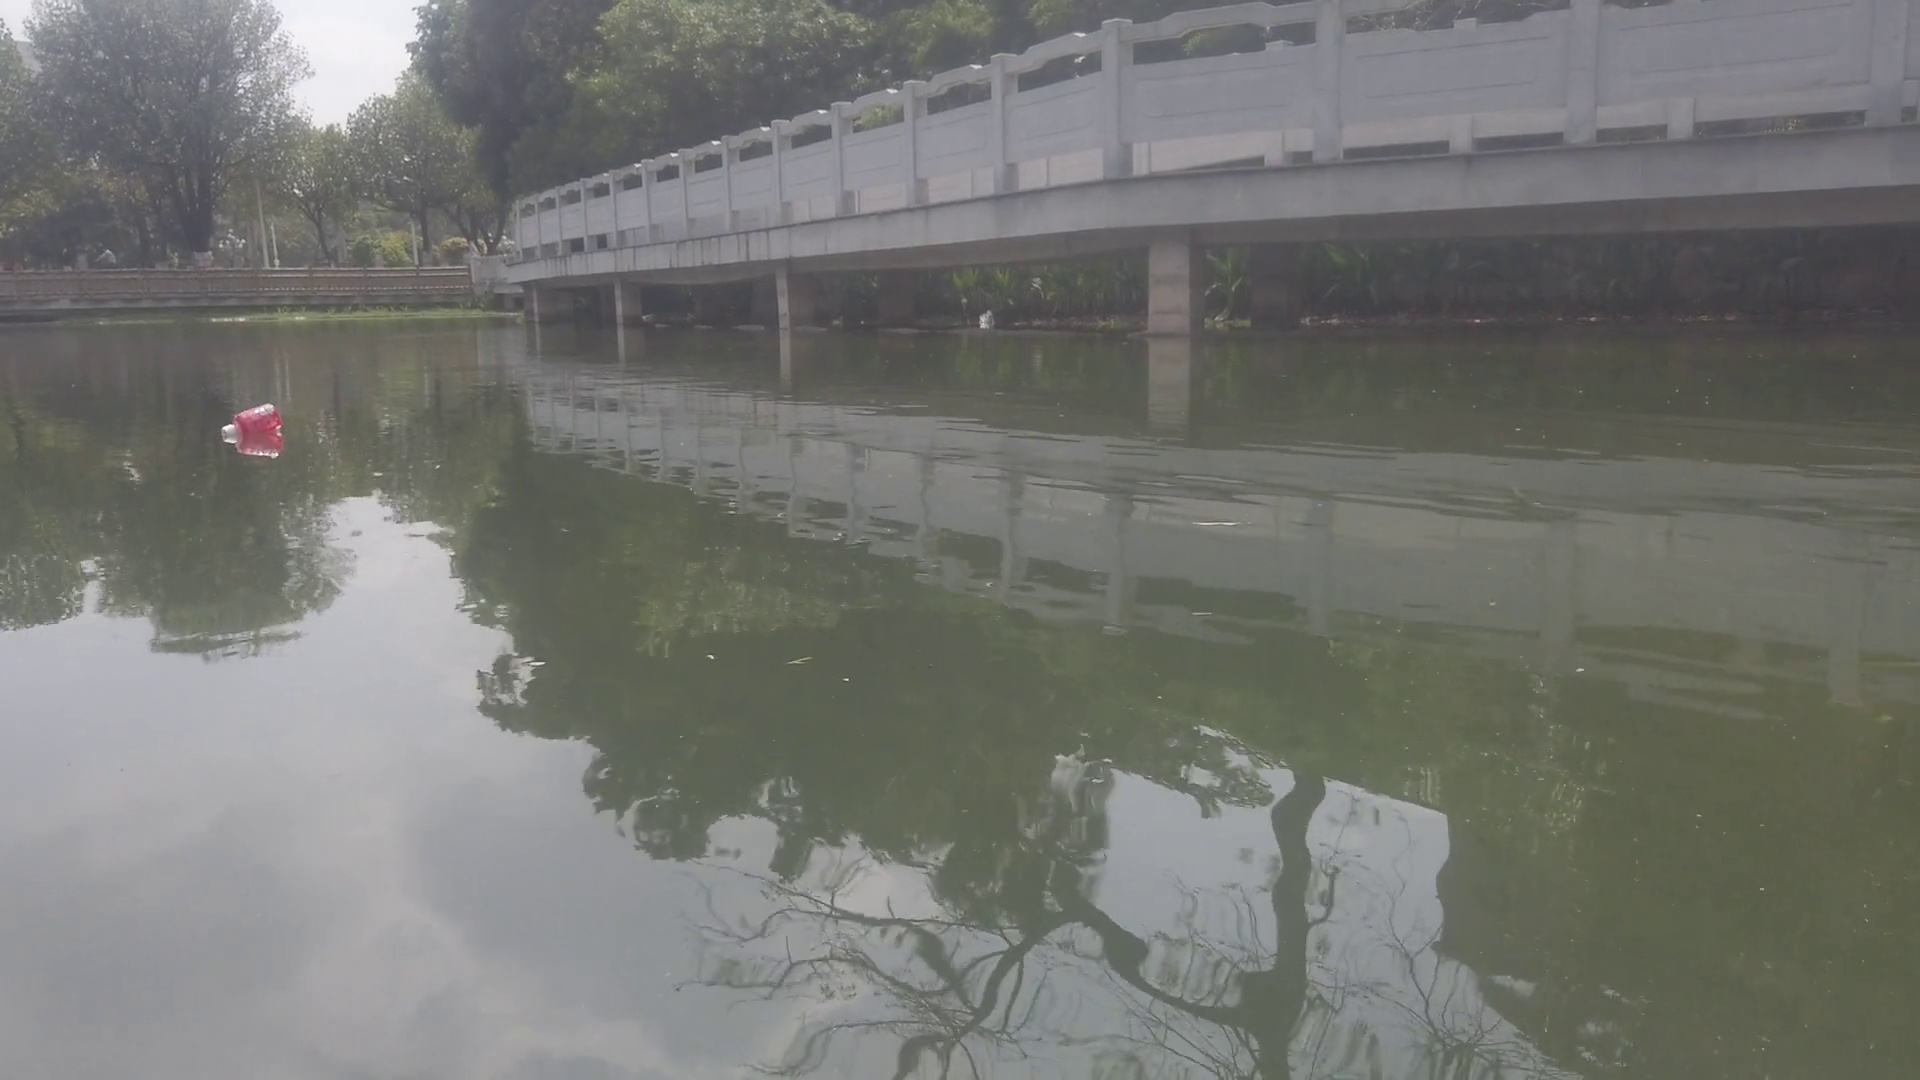bottle: (215, 402, 285, 444)
